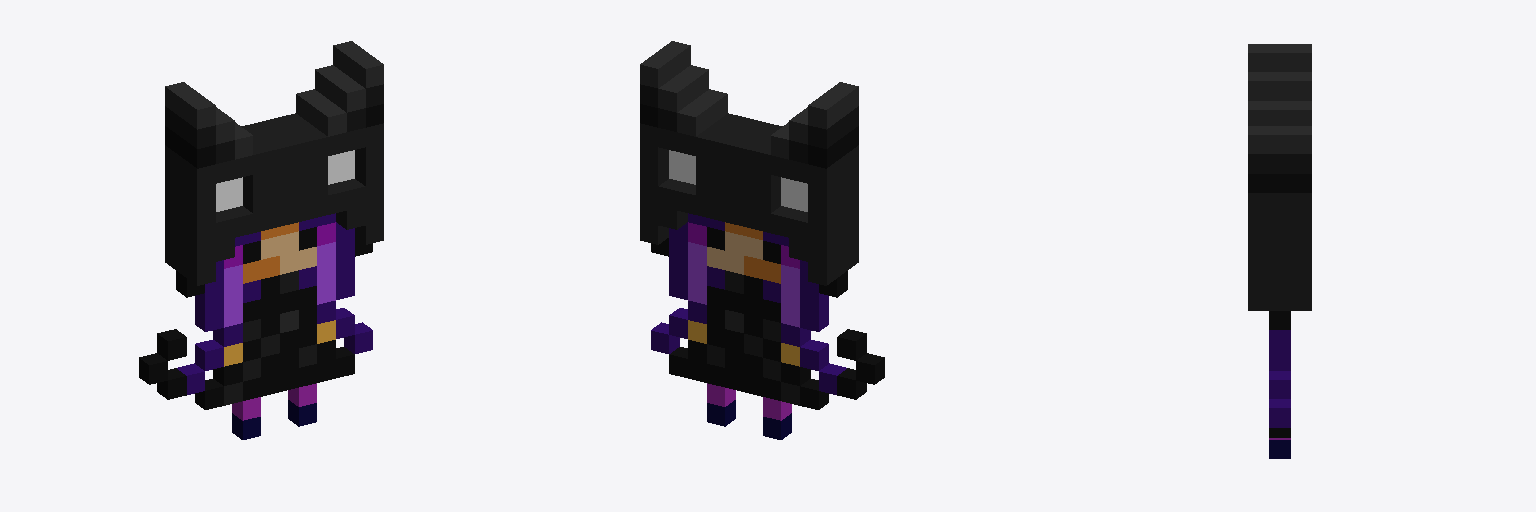
The picture shows the model from 3 angles: view 1: azimuth 30°, elevation 25°; view 2: azimuth 150°, elevation 25°; view 3: azimuth 270°, elevation 25°; orthographic projection.
Size of the model in its own units: 12 by 18 by 3.
1 materials, 1 textured.